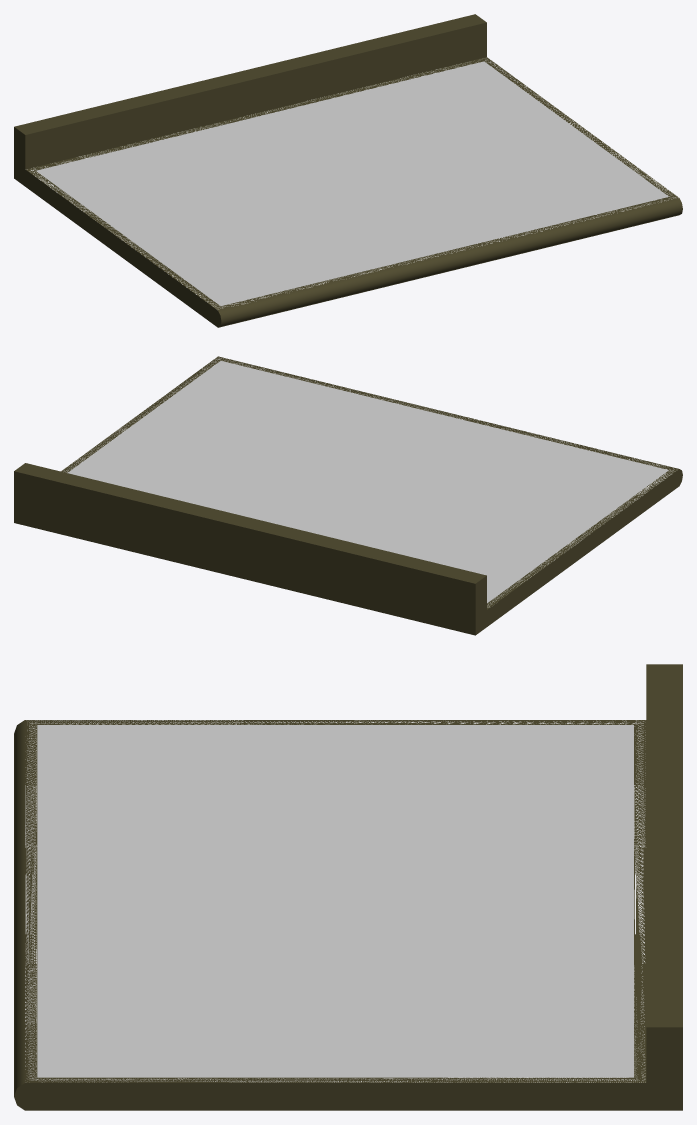
Rendered from original-1.obj.
3 views of the same model, one above another, from view 1: azimuth 30°, elevation 25°; view 2: azimuth 150°, elevation 25°; view 3: azimuth 270°, elevation 25° (orthographic). The views are drawn at different scales.
Parts seen in each view (by area): view 1: Component_35_1/Component_35/mesh1/mesh1-geometry#mesh1-geometry; view 2: Component_35_1/Component_35/mesh1/mesh1-geometry#mesh1-geometry; view 3: Component_35_1/Component_35/mesh1/mesh1-geometry#mesh1-geometry.
Boxes of the visible parts, x1,y1,x2,y2 form: Component_35_1/Component_35/mesh1/mesh1-geometry#mesh1-geometry: (14, 14, 682, 327); Component_35_1/Component_35/mesh1/mesh1-geometry#mesh1-geometry: (14, 356, 682, 635); Component_35_1/Component_35/mesh1/mesh1-geometry#mesh1-geometry: (14, 664, 682, 1110).
Size of the model in its own units: 1.16 by 0.1242 by 0.9025.
